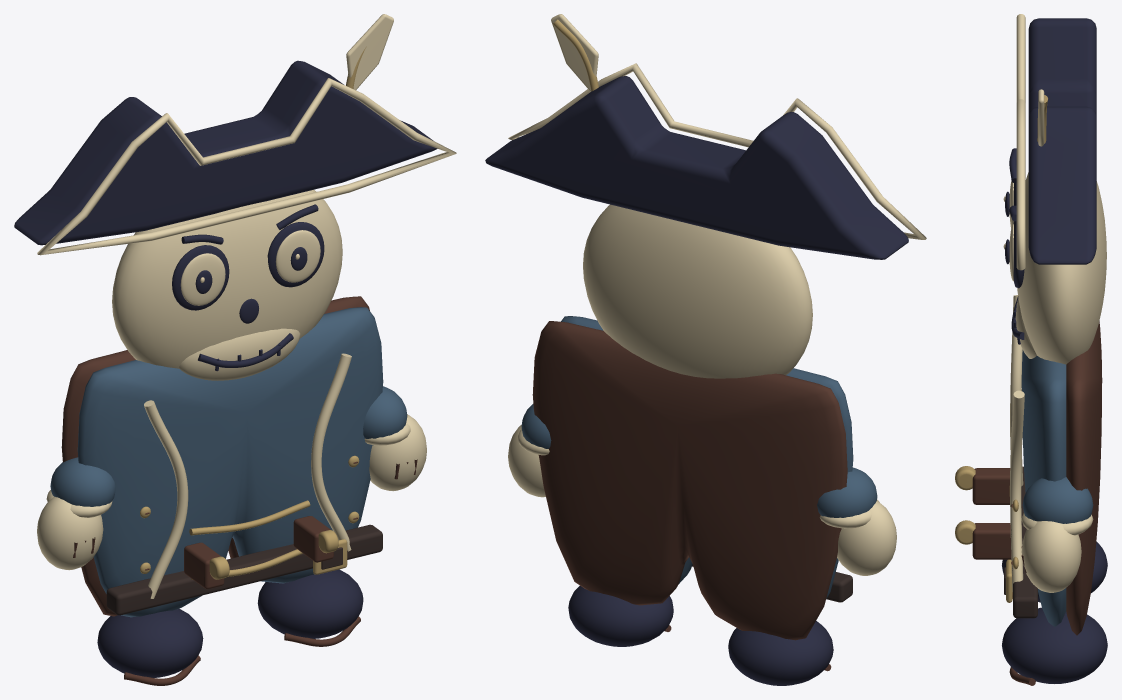
File: pirate_firstmate.glb
The picture shows the model from 3 angles, left to right: view 1: azimuth 30°, elevation 25°; view 2: azimuth 150°, elevation 25°; view 3: azimuth 270°, elevation 25°; orthographic projection. The views are drawn at different scales.
Visible parts, largest first — view 1: pirate_firstmate_Body_crew_firstmate_wood, pirate_firstmate_Hat_charcoal_enamel, pirate_firstmate_Body_crew_ivory_wood, pirate_firstmate_Body_charcoal_enamel, pirate_firstmate_Hat_crew_ivory_wood, pirate_firstmate_Body_carved_mahogany, pirate_firstmate_Body_leather_inlay, pirate_firstmate_Hand_L_crew_ivory_wood, pirate_firstmate_Hand_R_crew_ivory_wood, pirate_firstmate_Body_crew_brass, pirate_firstmate_Eye_L_crew_ivory_wood, pirate_firstmate_Eye_R_crew_ivory_wood (+3 smaller); view 2: pirate_firstmate_Body_carved_mahogany, pirate_firstmate_Hat_charcoal_enamel, pirate_firstmate_Body_crew_ivory_wood, pirate_firstmate_Body_charcoal_enamel, pirate_firstmate_Hat_crew_ivory_wood, pirate_firstmate_Body_crew_firstmate_wood, pirate_firstmate_Hand_L_crew_ivory_wood, pirate_firstmate_Hand_R_crew_ivory_wood; view 3: pirate_firstmate_Hat_charcoal_enamel, pirate_firstmate_Body_crew_ivory_wood, pirate_firstmate_Body_carved_mahogany, pirate_firstmate_Body_crew_firstmate_wood, pirate_firstmate_Body_charcoal_enamel, pirate_firstmate_Hand_R_crew_ivory_wood, pirate_firstmate_Hat_crew_ivory_wood, pirate_firstmate_Body_crew_brass, pirate_firstmate_Body_leather_inlay, pirate_firstmate_Eye_R_charcoal_enamel.
Part boxes in pixels (bbox=[...]): pirate_firstmate_Body_crew_firstmate_wood: bbox=[50, 307, 407, 617]; pirate_firstmate_Hat_charcoal_enamel: bbox=[14, 60, 437, 245]; pirate_firstmate_Body_crew_ivory_wood: bbox=[112, 189, 351, 598]; pirate_firstmate_Body_charcoal_enamel: bbox=[97, 298, 363, 677]; pirate_firstmate_Hat_crew_ivory_wood: bbox=[37, 14, 456, 255]; pirate_firstmate_Body_carved_mahogany: bbox=[61, 296, 369, 685]; pirate_firstmate_Body_leather_inlay: bbox=[106, 524, 382, 615]; pirate_firstmate_Hand_L_crew_ivory_wood: bbox=[37, 490, 112, 570]; pirate_firstmate_Hand_R_crew_ivory_wood: bbox=[364, 414, 426, 491]; pirate_firstmate_Body_crew_brass: bbox=[140, 455, 359, 579]; pirate_firstmate_Eye_L_crew_ivory_wood: bbox=[180, 253, 225, 305]; pirate_firstmate_Eye_R_crew_ivory_wood: bbox=[275, 230, 320, 282]; pirate_firstmate_Body_carved_mahogany: bbox=[532, 321, 847, 671]; pirate_firstmate_Hat_charcoal_enamel: bbox=[485, 76, 908, 259]; pirate_firstmate_Body_crew_ivory_wood: bbox=[583, 204, 812, 378]; pirate_firstmate_Body_charcoal_enamel: bbox=[568, 586, 833, 685]; pirate_firstmate_Hat_crew_ivory_wood: bbox=[508, 14, 926, 239]; pirate_firstmate_Body_crew_firstmate_wood: bbox=[521, 316, 877, 599]; pirate_firstmate_Hand_L_crew_ivory_wood: bbox=[819, 499, 896, 575]; pirate_firstmate_Hand_R_crew_ivory_wood: bbox=[508, 425, 549, 497]; pirate_firstmate_Hat_charcoal_enamel: bbox=[1028, 18, 1096, 264]; pirate_firstmate_Body_crew_ivory_wood: bbox=[1010, 172, 1106, 591]; pirate_firstmate_Body_carved_mahogany: bbox=[972, 321, 1102, 685]; pirate_firstmate_Body_crew_firstmate_wood: bbox=[1021, 350, 1093, 626]; pirate_firstmate_Body_charcoal_enamel: bbox=[1002, 282, 1107, 683]; pirate_firstmate_Hand_R_crew_ivory_wood: bbox=[1021, 513, 1093, 592]; pirate_firstmate_Hat_crew_ivory_wood: bbox=[1016, 14, 1044, 270]; pirate_firstmate_Body_crew_brass: bbox=[955, 466, 1018, 602]; pirate_firstmate_Body_leather_inlay: bbox=[1004, 466, 1037, 618]; pirate_firstmate_Eye_R_charcoal_enamel: bbox=[1013, 221, 1024, 288].
Size of the model in its own units: 1.57 by 2.17 by 0.484.
